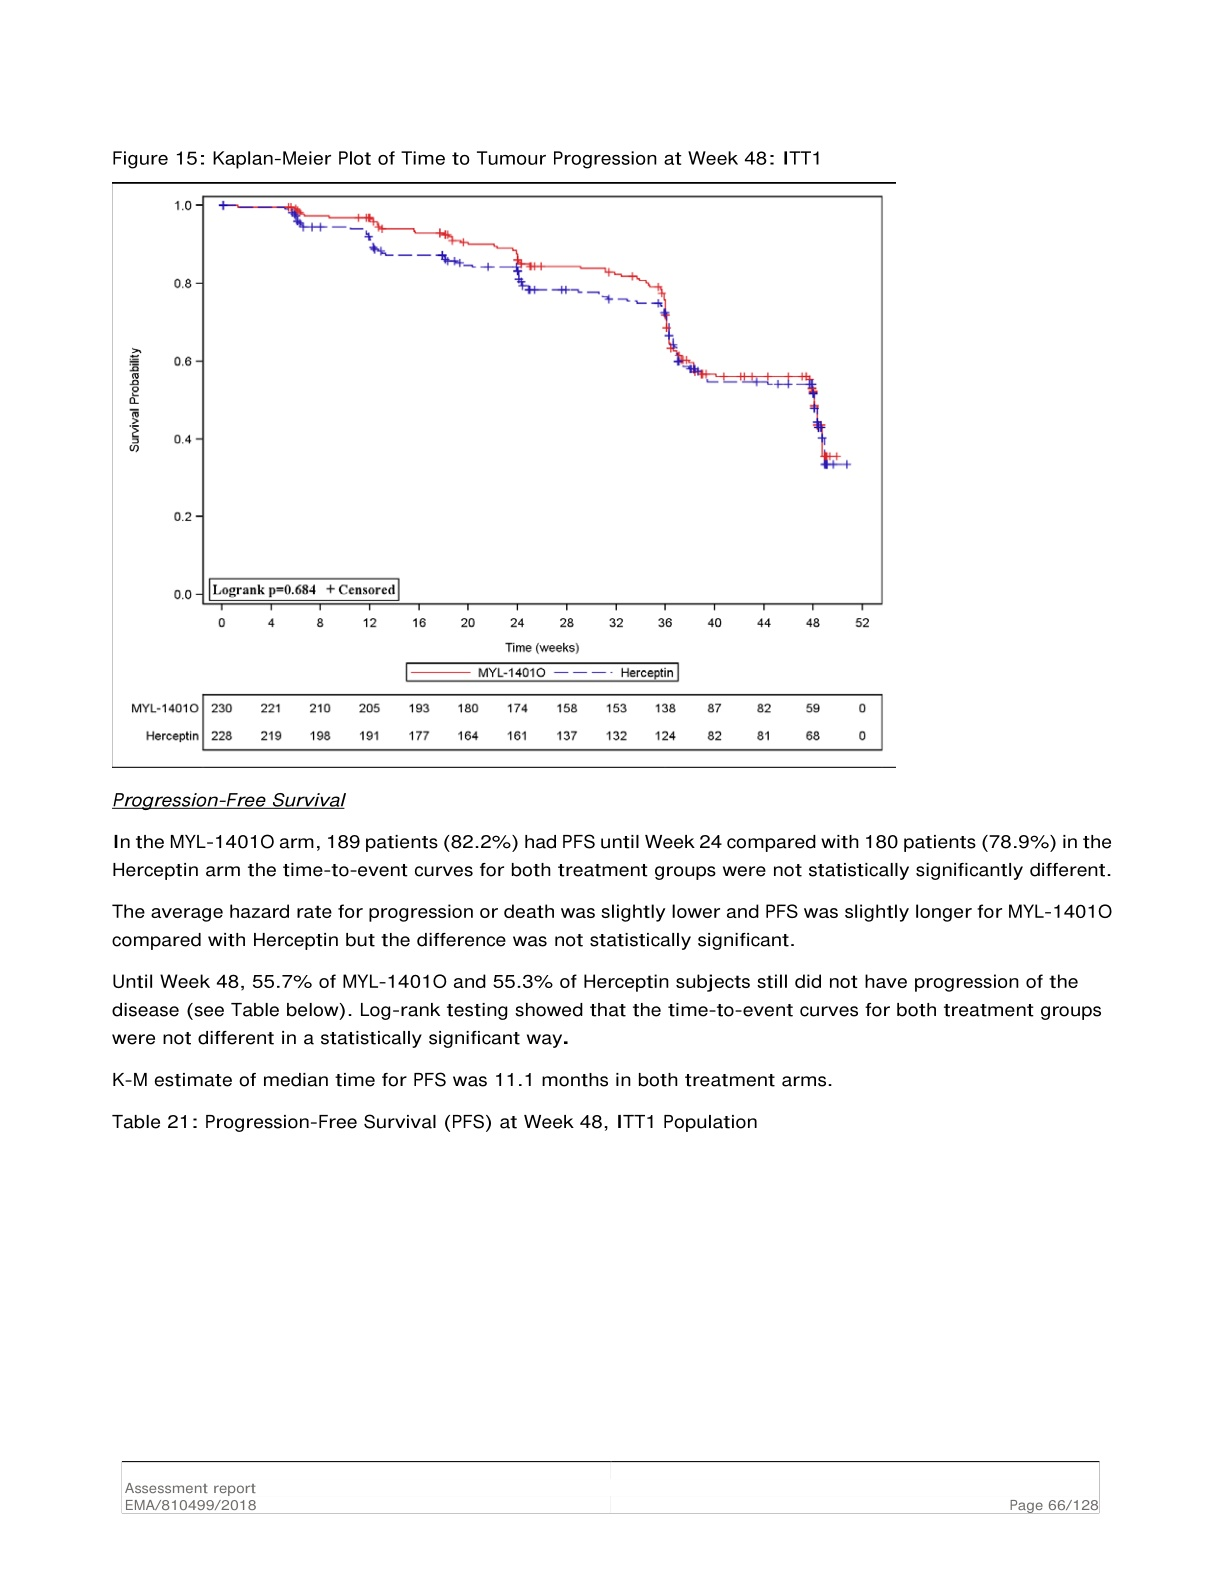partial_lined: (130, 693, 881, 750)
